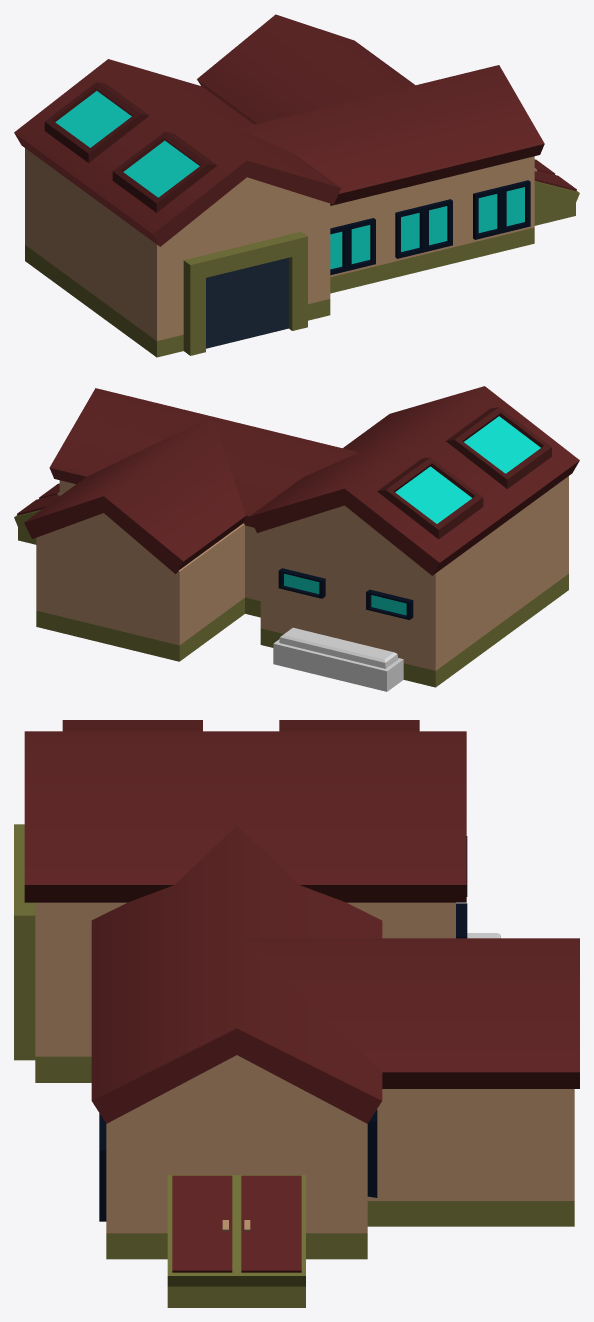
Rendered from House_12.fbx.
3 renders of one model, top to bottom at view 1: azimuth 30°, elevation 25°; view 2: azimuth 150°, elevation 25°; view 3: azimuth 270°, elevation 25°, orthographic. The views are drawn at different scales.
Parts seen in each view (by area): view 1: House_12; view 2: House_12; view 3: House_12.
Part boxes in pixels (left/top/right/bottom): House_12: left=14, top=14, right=579, bottom=357; House_12: left=14, top=386, right=579, bottom=691; House_12: left=14, top=720, right=579, bottom=1307.
Bounding box in the file's own units: 80.17 × 29.12 × 52.24.
